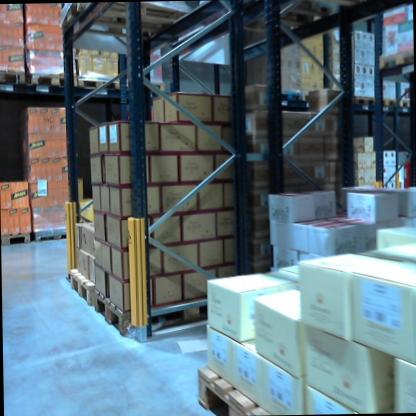pallet: (195, 347, 326, 416), (91, 287, 231, 344), (60, 3, 191, 49), (64, 269, 106, 310), (27, 68, 77, 91), (32, 218, 71, 244), (377, 47, 414, 74), (78, 76, 130, 93), (0, 64, 28, 90), (144, 78, 182, 97), (1, 228, 31, 244), (303, 87, 329, 105), (276, 89, 303, 105), (372, 93, 395, 107), (395, 94, 412, 111), (348, 93, 378, 102)
